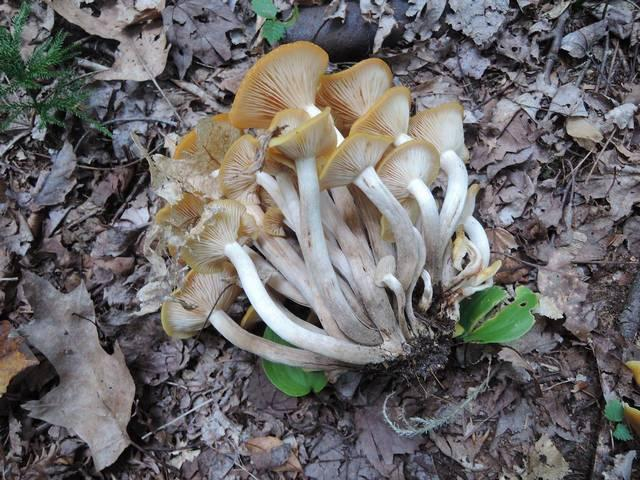edible_mushroom: (151, 39, 502, 377)
